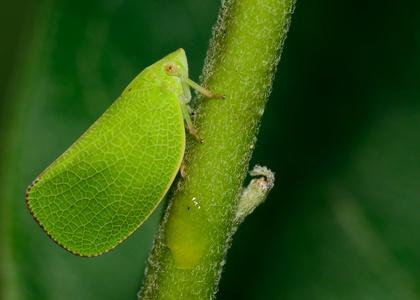Cicadellidae: (25, 47, 225, 258)
